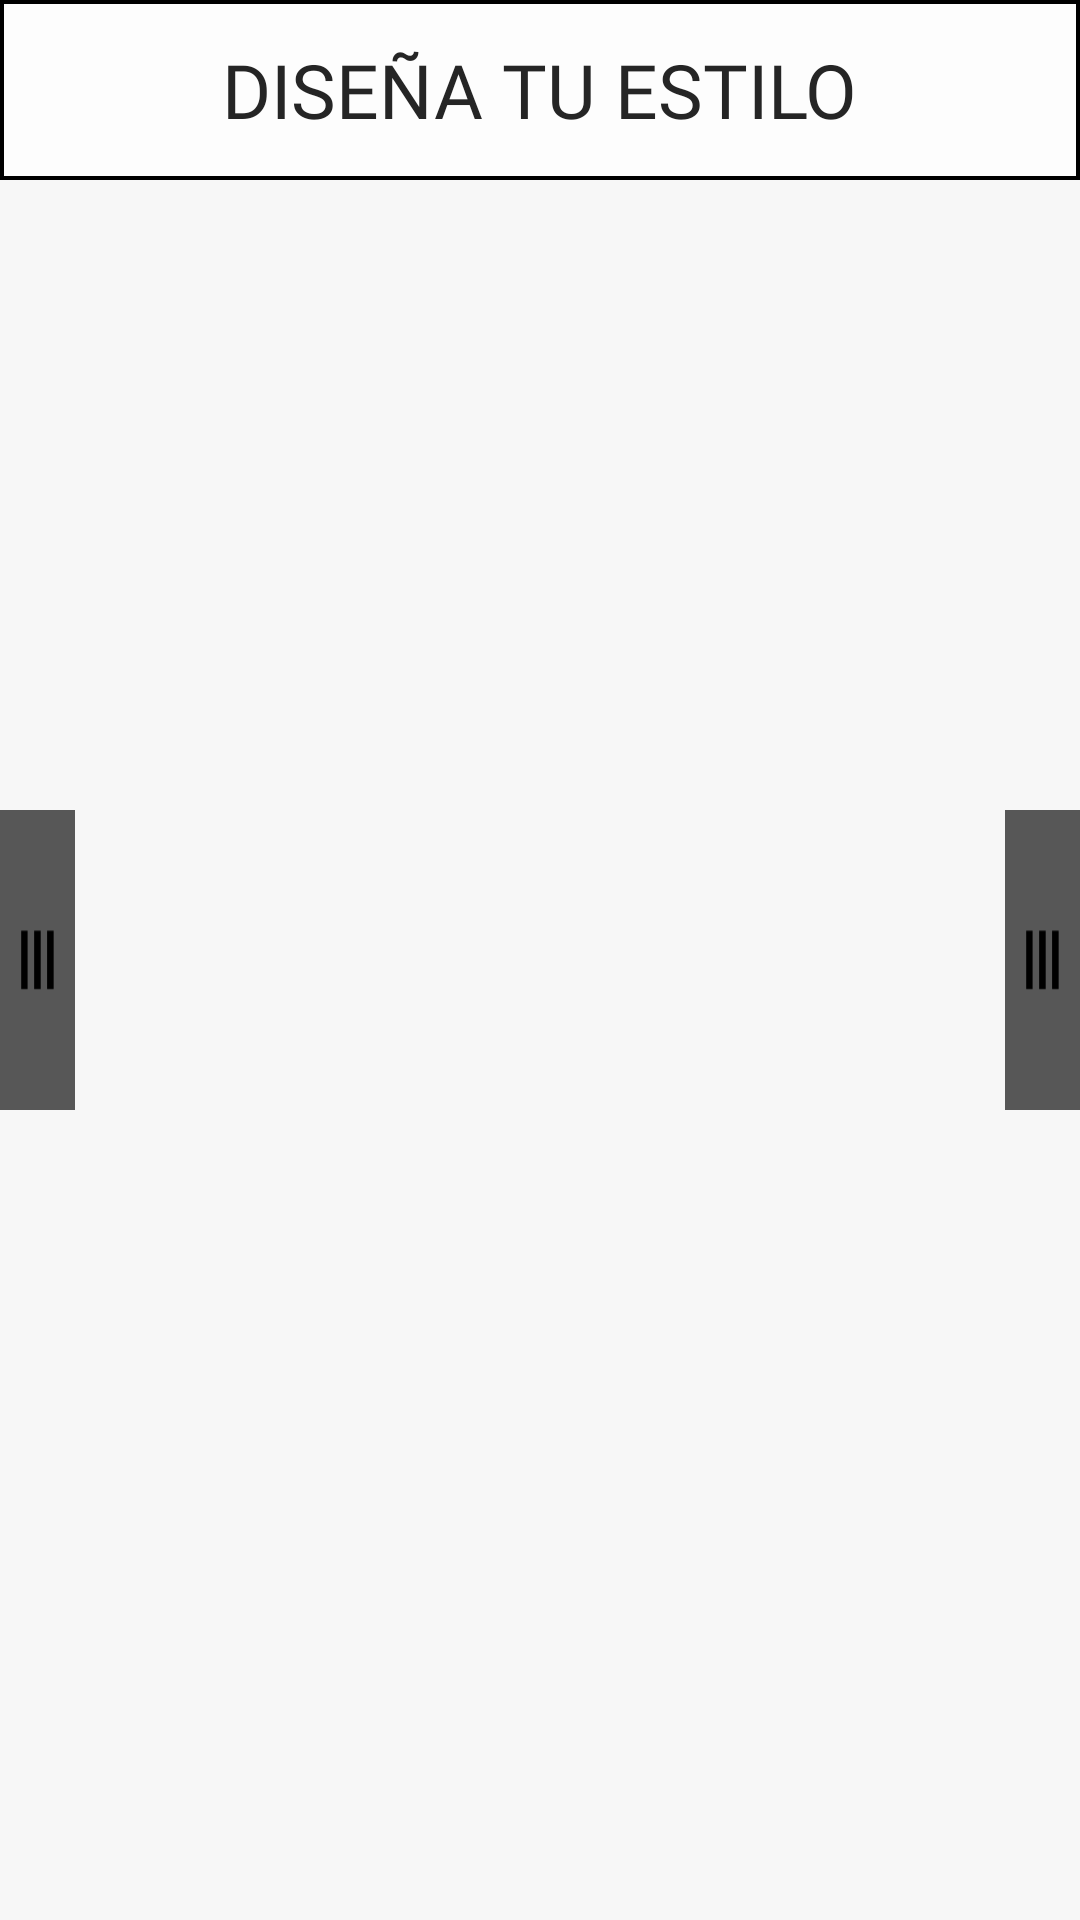

Icons on this 1080px x 1920px Android screen, each with the point to tap as (x,y):
tres lineas: (37,960), (1042,960)
